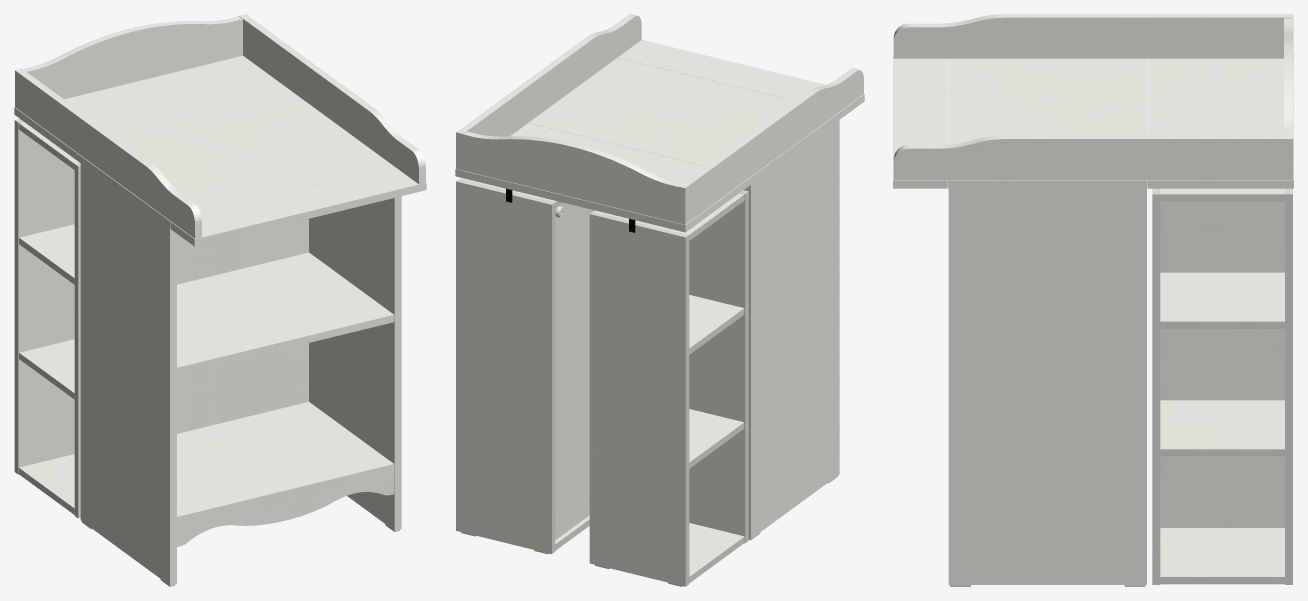
The picture shows the model from 3 angles, left to right: view 1: azimuth 30°, elevation 25°; view 2: azimuth 150°, elevation 25°; view 3: azimuth 270°, elevation 25°; orthographic projection. The views are drawn at different scales.
Size of the model in its own units: 0.6002 by 1.03 by 0.8083.
1 material, 1 textured.
